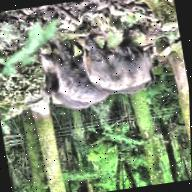boar: (56, 10, 190, 125), (32, 26, 121, 117)
